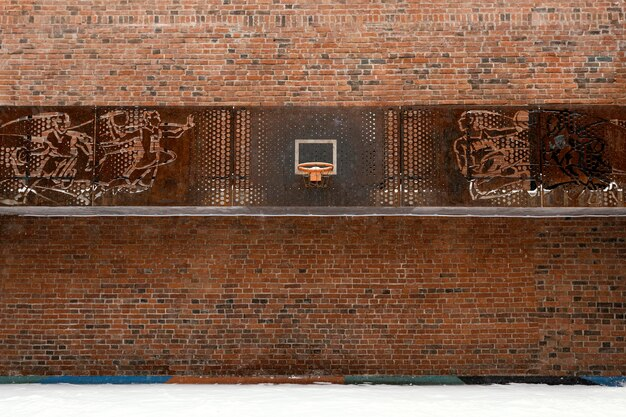Wall: (4, 222, 623, 370), (4, 5, 618, 99)
